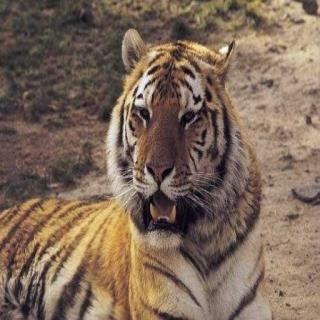Tiger: (0, 25, 263, 320)
